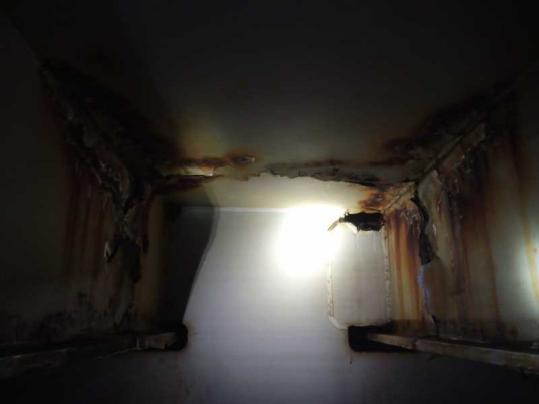corrosion: (442, 166, 539, 326), (136, 139, 261, 198), (261, 147, 426, 189), (378, 198, 431, 321)
